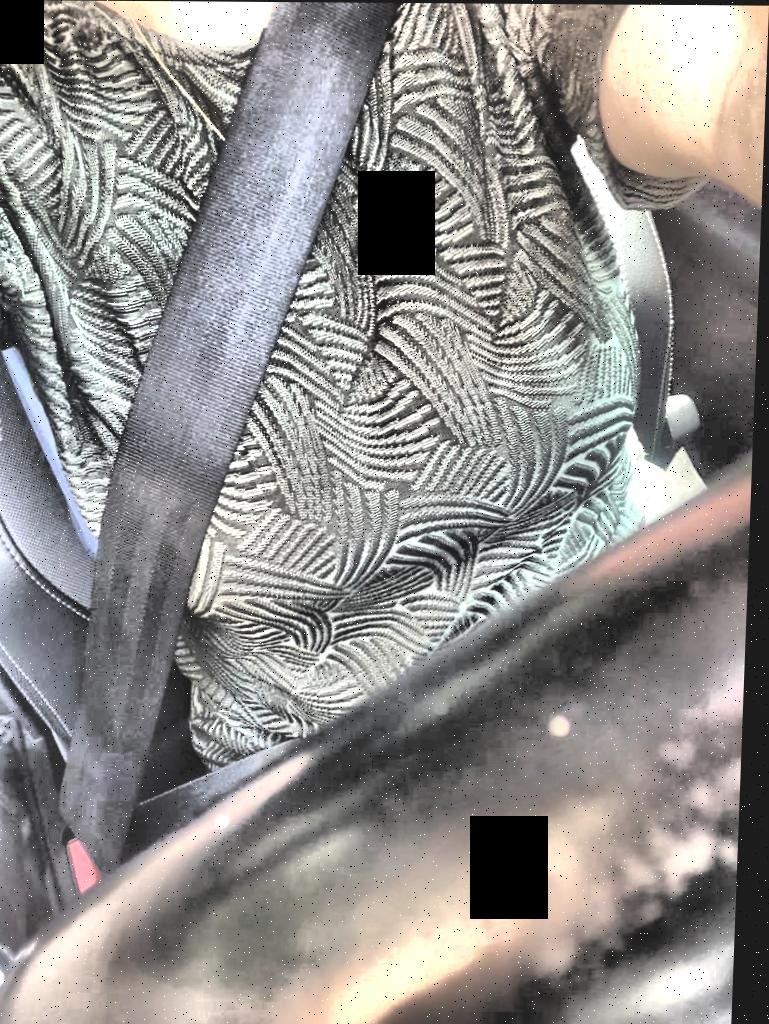seatbelt: (48, 4, 409, 904)
